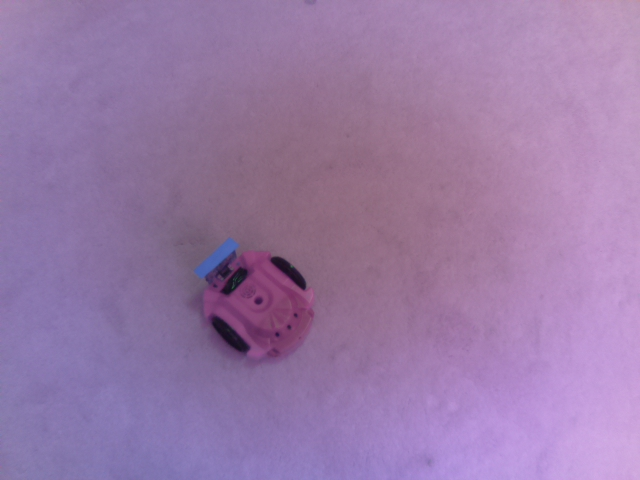board: (192, 242, 243, 278)
chassis: (190, 239, 321, 363)
